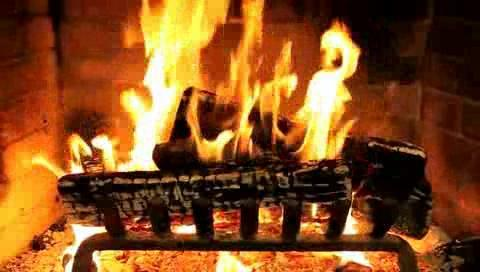fire: (115, 2, 358, 179)
